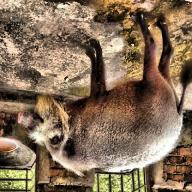boar: (13, 16, 192, 176)
